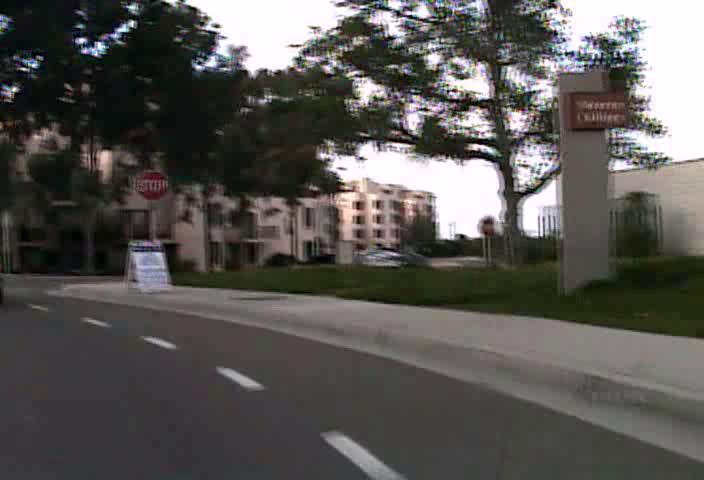stop: (135, 169, 170, 201)
